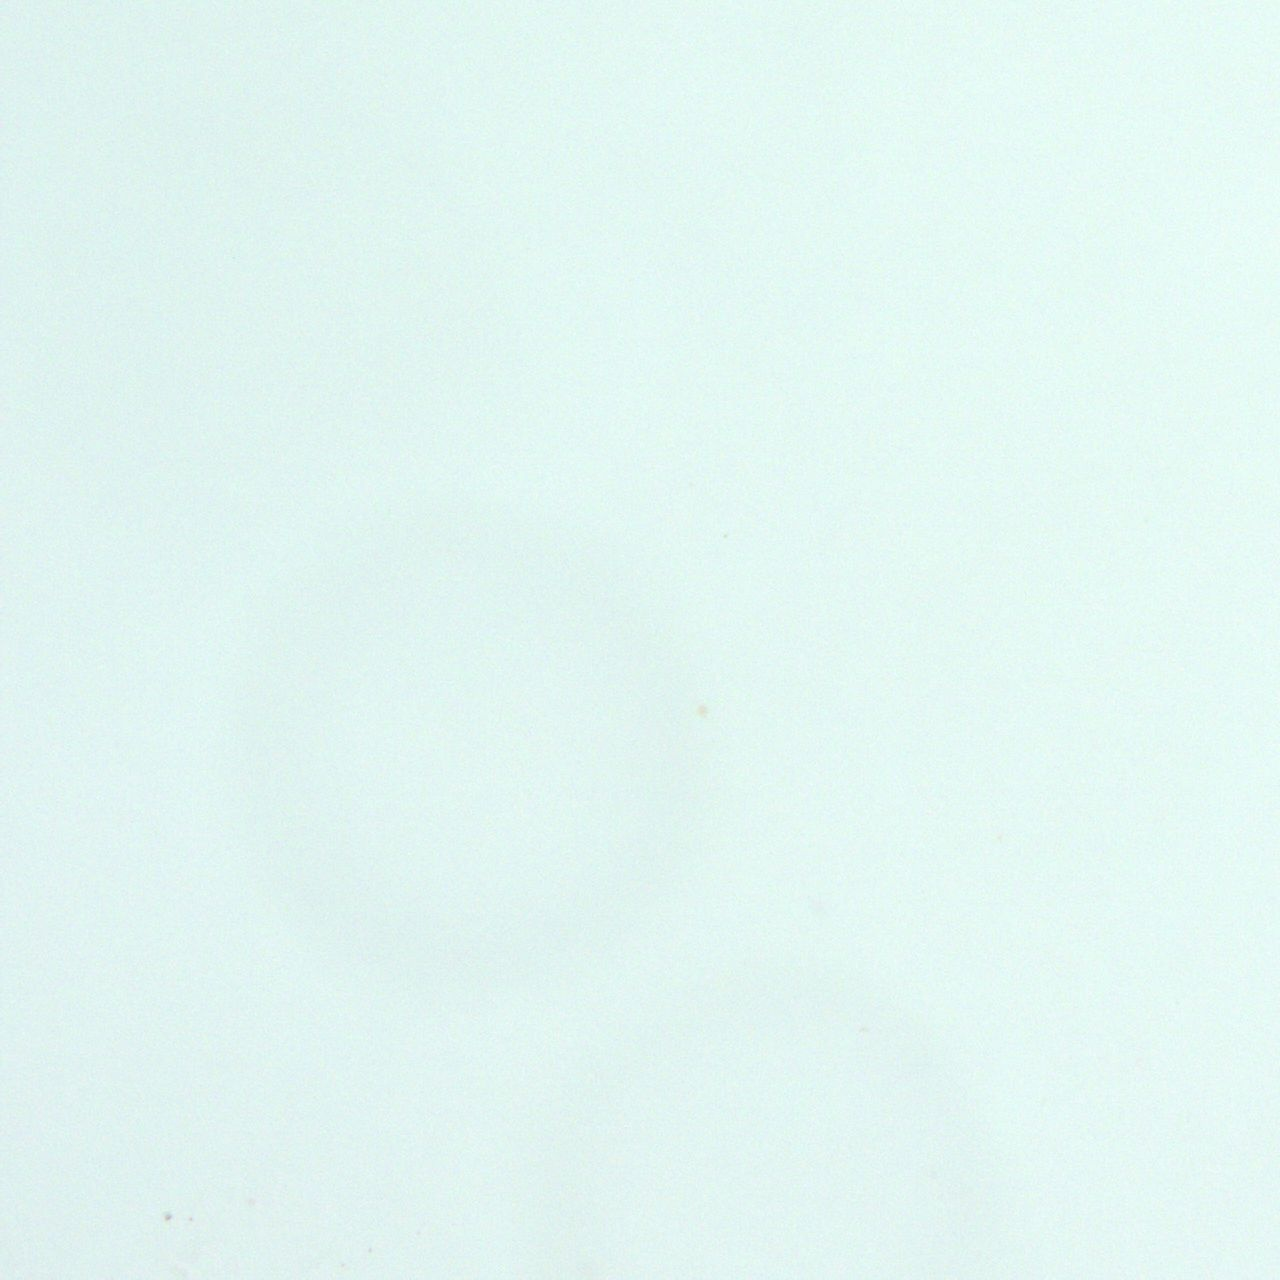dust: (163, 1213, 173, 1221)
